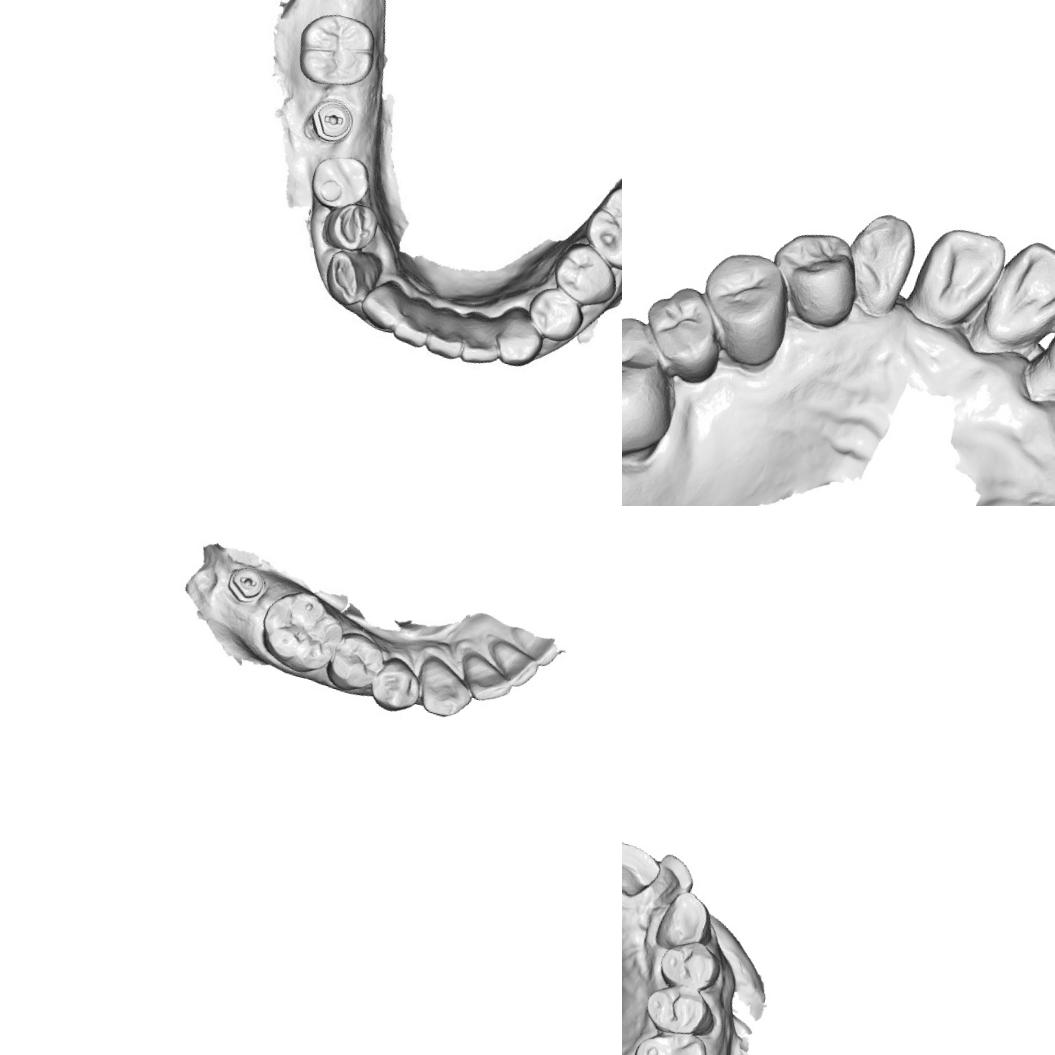canine: (834, 202, 922, 322), (408, 650, 481, 722), (651, 884, 716, 956), (321, 241, 382, 310), (494, 305, 548, 371)
implant_minus: (299, 89, 363, 151), (223, 560, 271, 607)
incisor: (905, 216, 1011, 333), (980, 231, 1055, 356), (454, 645, 520, 708), (481, 635, 544, 691), (646, 849, 699, 914), (622, 836, 664, 903), (362, 276, 406, 327), (460, 318, 504, 366), (426, 318, 472, 358), (395, 303, 436, 342)
molar: (622, 299, 693, 470), (631, 275, 733, 387), (251, 581, 352, 681), (294, 6, 382, 93), (581, 182, 622, 272), (622, 1022, 714, 1055)
premolar: (684, 238, 800, 371), (758, 219, 868, 333), (638, 977, 721, 1043), (320, 625, 391, 699), (652, 932, 726, 1000), (552, 239, 621, 306), (364, 650, 428, 718), (307, 152, 371, 214), (525, 281, 587, 342), (327, 198, 380, 248)
